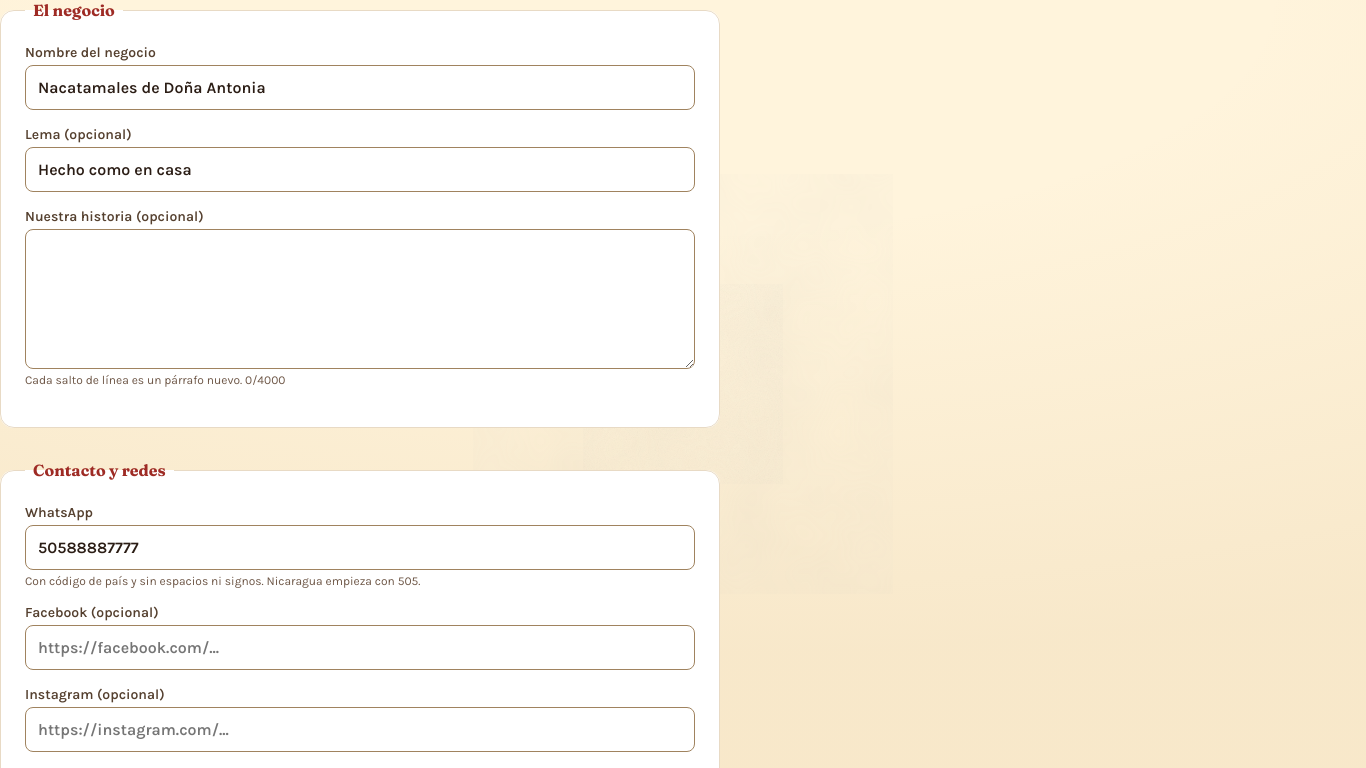
Scenario: SettingsManager › carga la configuración y la guarda con null en los campos vacíos
Type "+505 8888 1111" into the field showing "50588887777" at (360, 548), box [25,525,695,570]
(page scrolled)
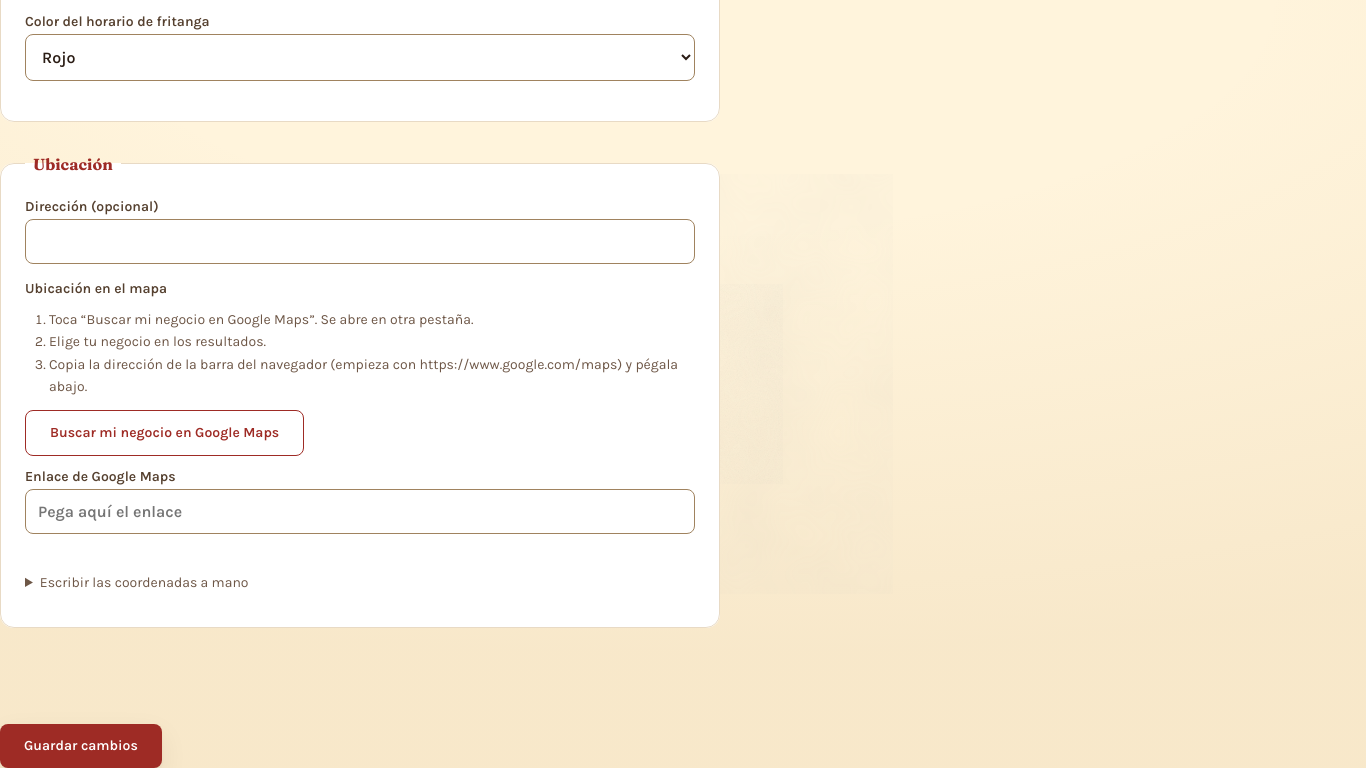
Click the button "Guardar cambios" at (81, 746), box [0,724,162,767]
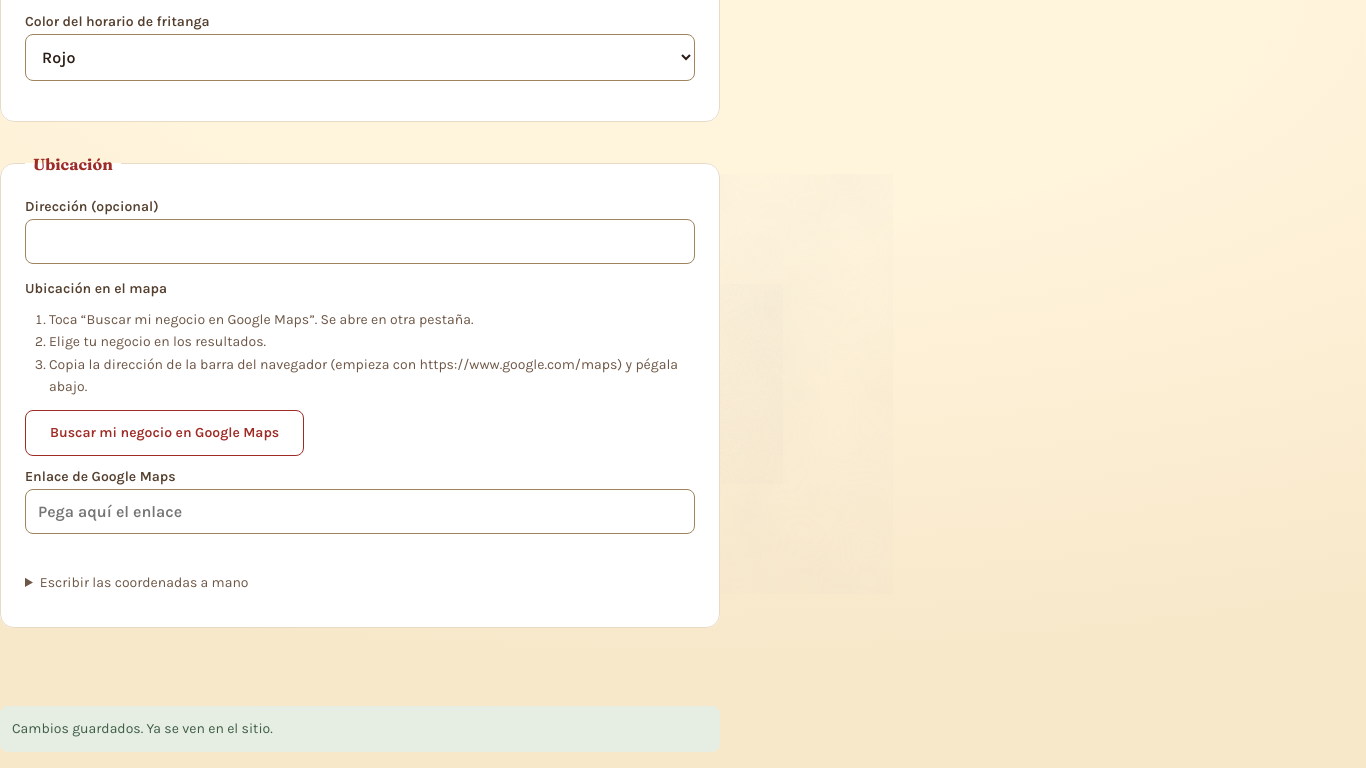
Check: the text "Cambios guardados. Ya se ven en el sitio." is shown, box [0,706,720,752]
